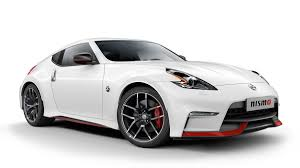Nissan: (23, 45, 282, 132)
